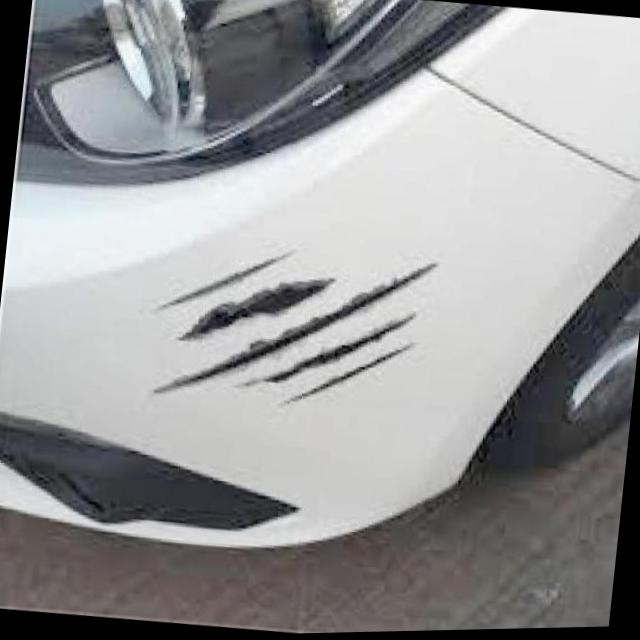Car-Damage: (128, 226, 444, 431)
